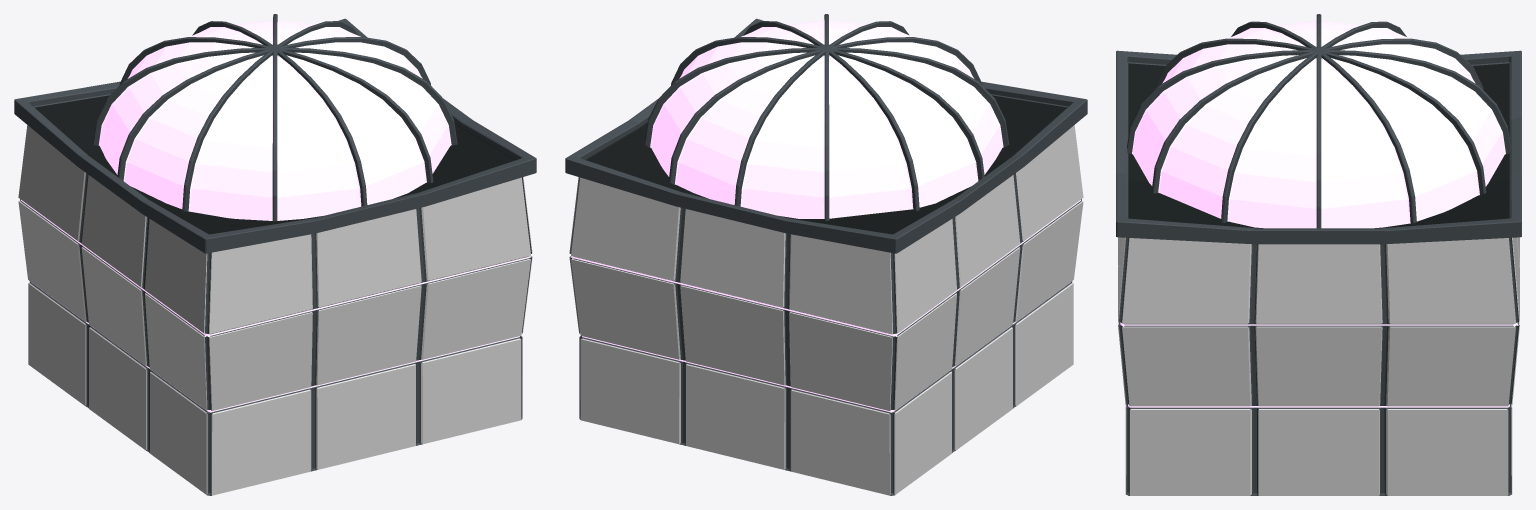
Rendered from shopping centre.fbx.
3 renders of one model, left to right at view 1: azimuth 30°, elevation 25°; view 2: azimuth 150°, elevation 25°; view 3: azimuth 270°, elevation 25°, orthographic. The views are drawn at different scales.
Visible parts, largest first — view 1: Куб; view 2: Куб; view 3: Куб.
Boxes of the visible parts, bbox=[...] form: Куб: bbox=[14, 14, 536, 495]; Куб: bbox=[565, 14, 1087, 495]; Куб: bbox=[1116, 14, 1521, 495].
Size of the model in its own units: 588 by 582 by 588.
